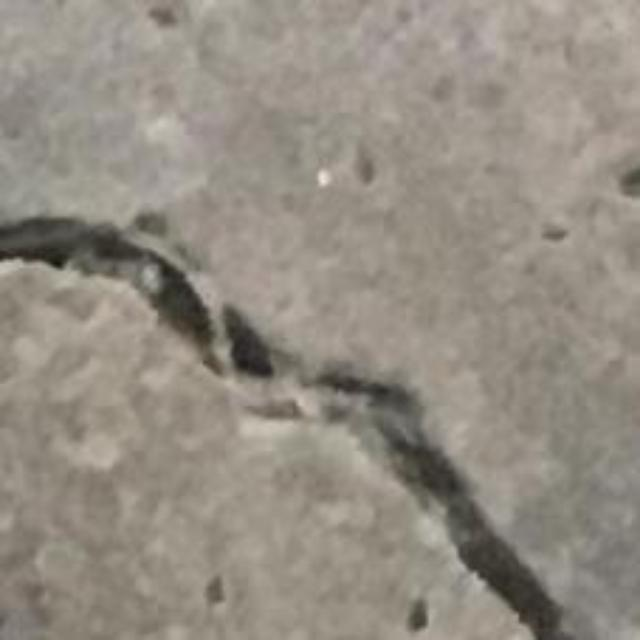crack: (0, 218, 575, 639)
